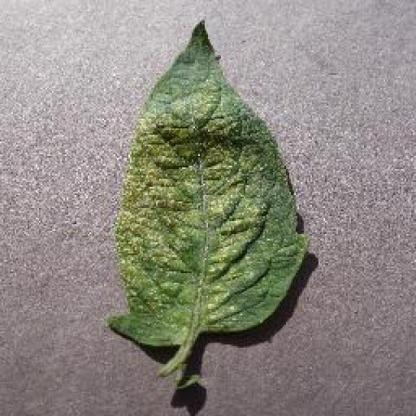Tomato_Spider_Mites: (107, 22, 307, 344)
